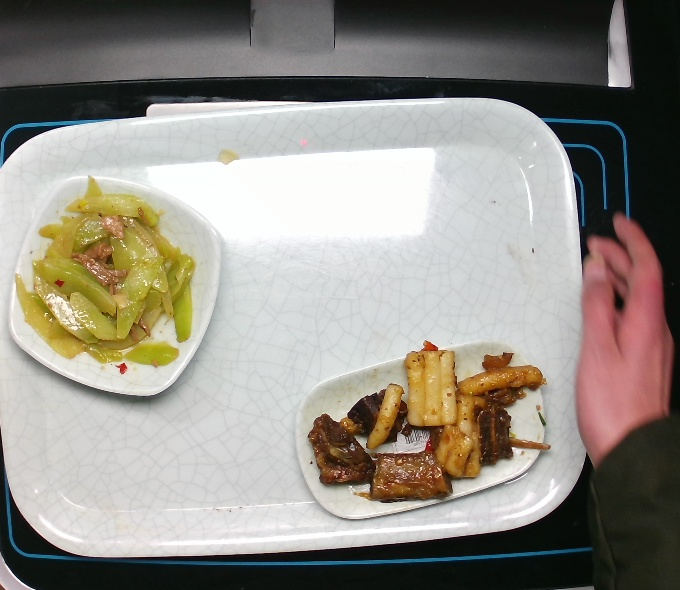wcq-NianGaoZaiPai: (304, 350, 550, 503)
wcq-WoSun: (16, 175, 200, 371)
